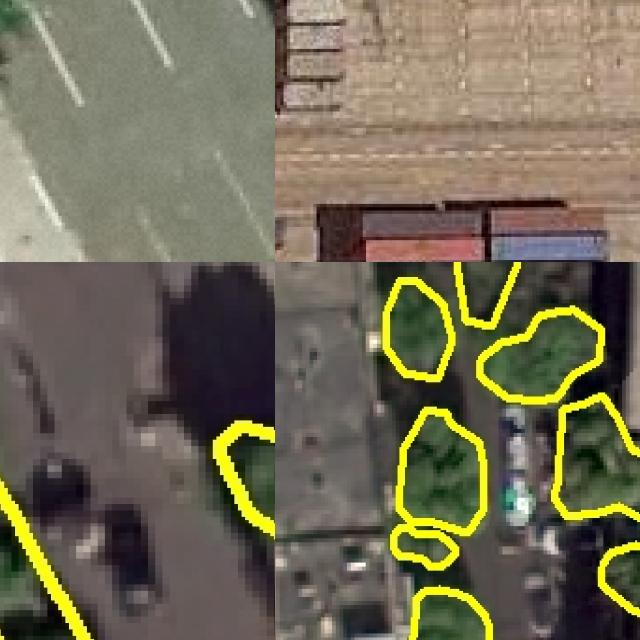trees: (393, 410, 485, 568), (1, 488, 88, 640), (479, 308, 602, 402), (554, 395, 640, 519), (385, 280, 453, 379), (217, 425, 276, 534), (412, 588, 490, 640), (456, 263, 518, 327), (601, 543, 640, 614)
